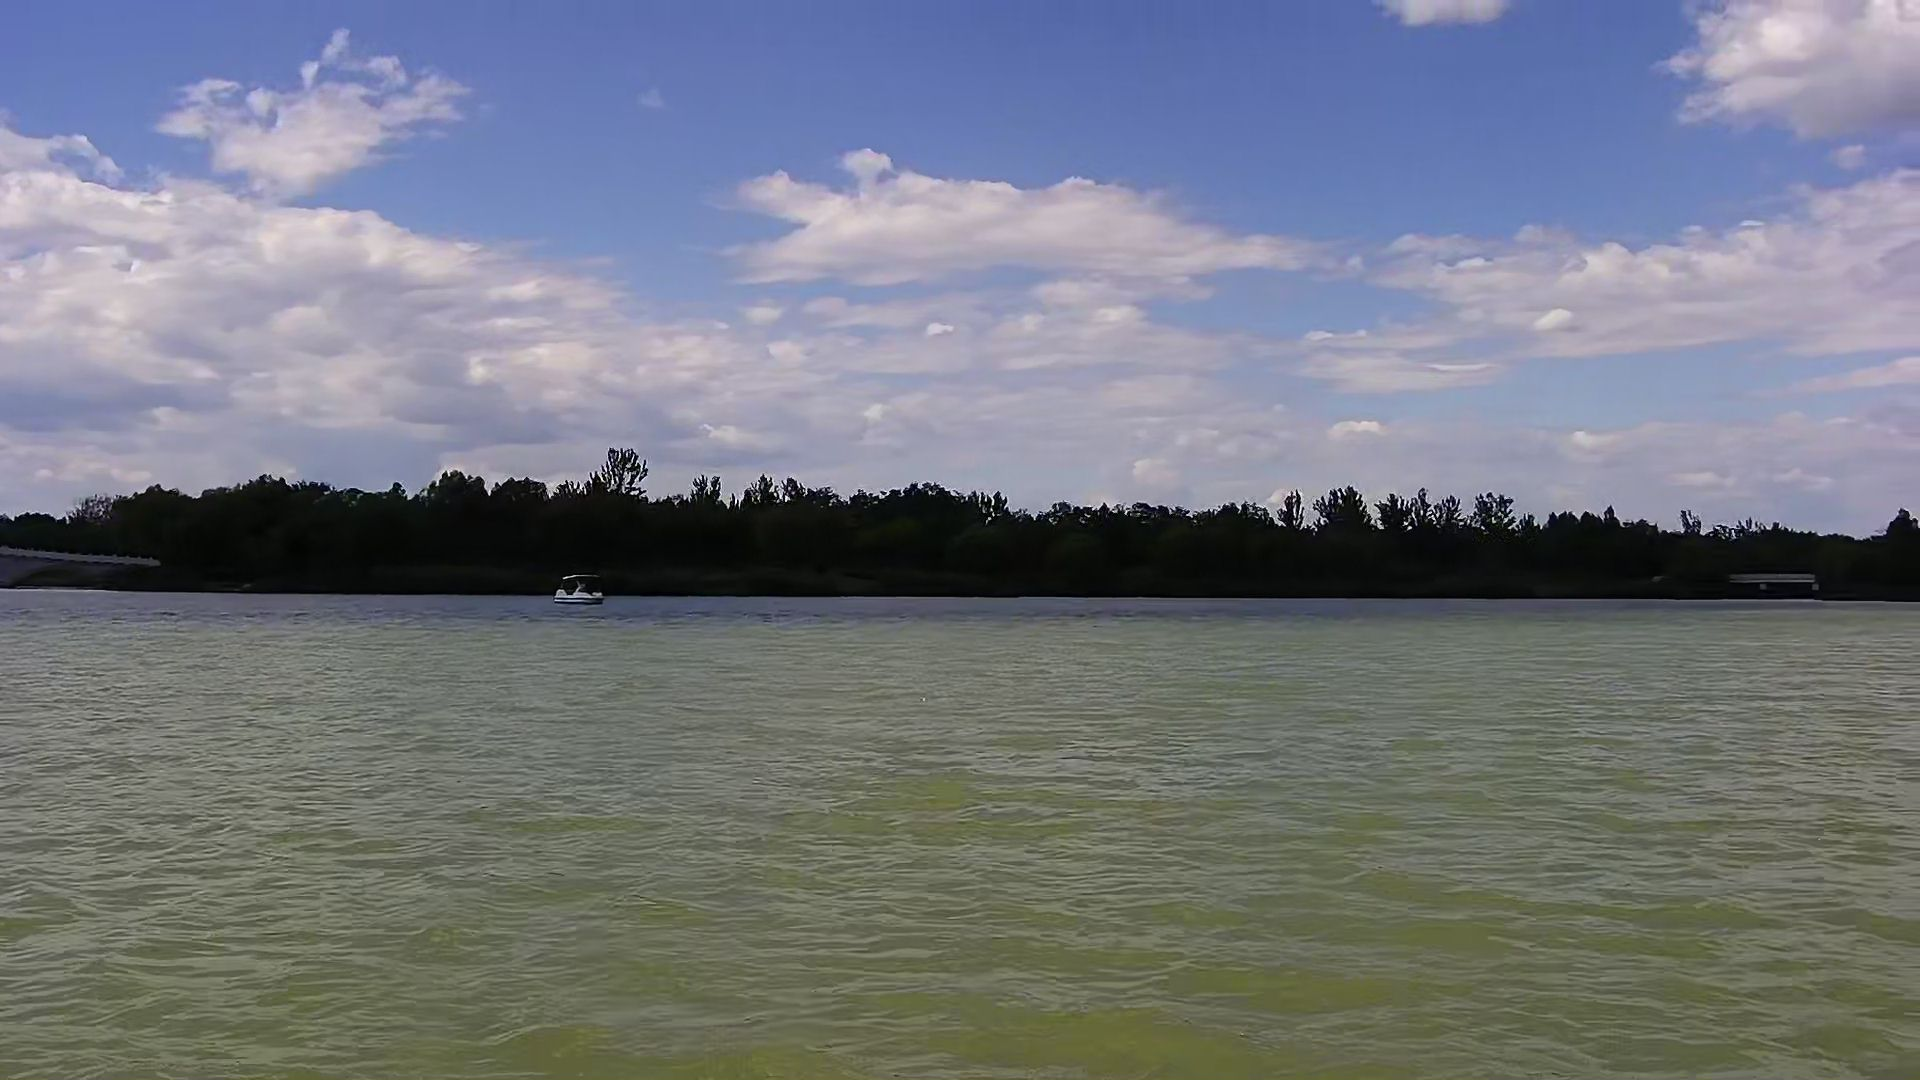boat: (542, 556, 624, 615)
